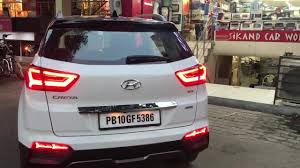plate: (98, 108, 162, 130)
